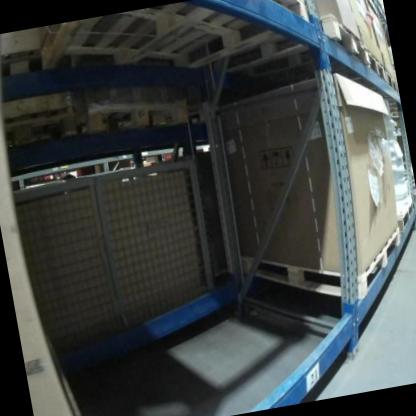pallet: (34, 0, 318, 94), (238, 214, 413, 330), (206, 8, 373, 100), (365, 43, 388, 93), (392, 194, 416, 236), (384, 65, 399, 98)
stillage: (76, 150, 224, 336), (8, 171, 125, 356)
